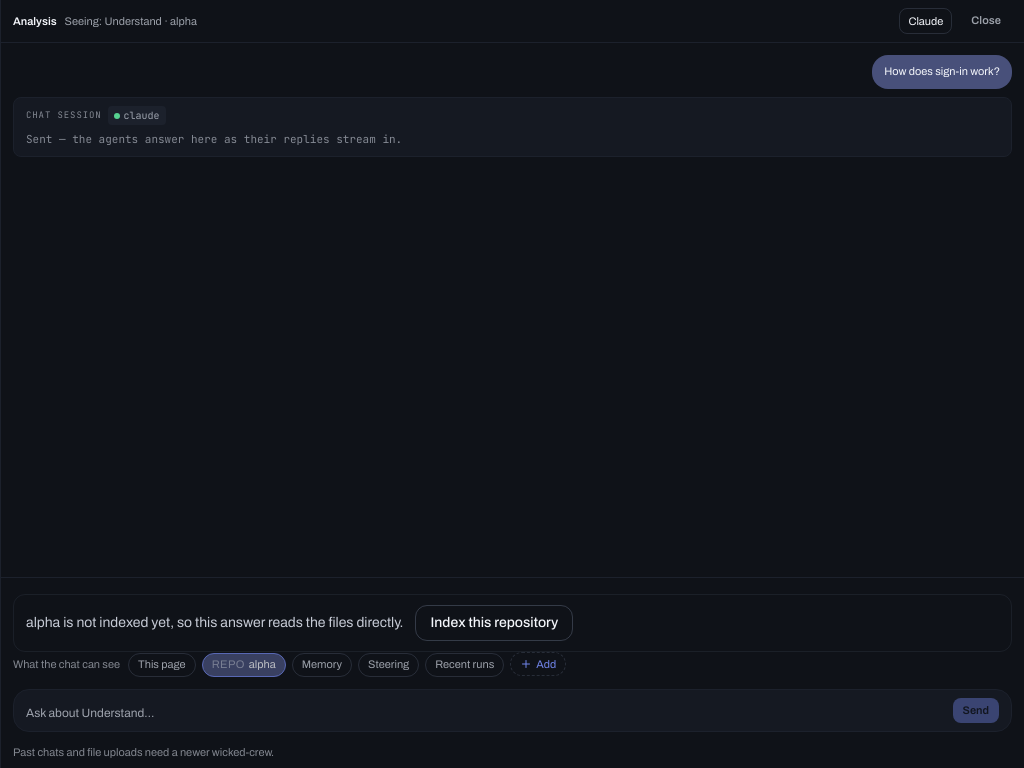
Test: Understand’s Ask runs the analyze workflow (crew#1157) › a repository with no code graph: the chat says so and offers to index it, once
Expected: the element with test id "analysis-index-offer" shows "alpha is not indexed yet", x1=13 y1=594 x2=1012 y2=652
Click the button with test id "analysis-index-repo" at (494,623), box x1=416 y1=605 x2=573 y2=641
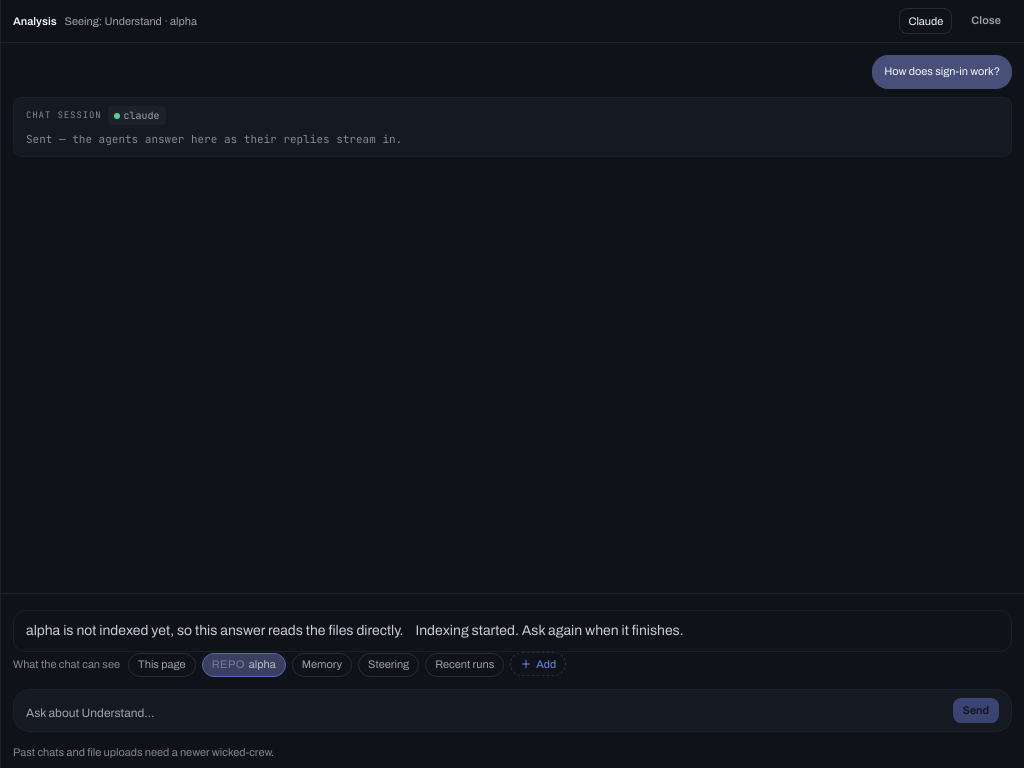
Expected: the text "Indexing started. Ask again when it finishes." is shown, x1=416 y1=621 x2=684 y2=641
